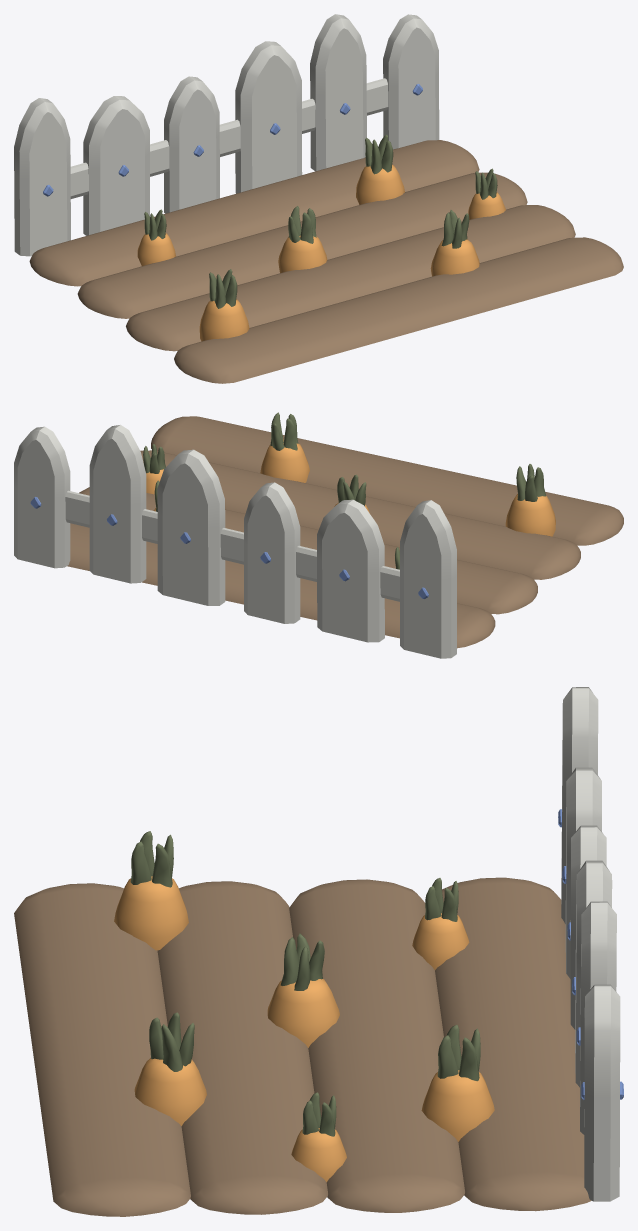
The model's file is farm.fbx.
The picture shows the model from 3 angles, top to bottom: view 1: azimuth 30°, elevation 25°; view 2: azimuth 150°, elevation 25°; view 3: azimuth 270°, elevation 25°; orthographic projection. The views are drawn at different scales.
Parts seen in each view (by area): view 1: pCylinder5; view 2: pCylinder5; view 3: pCylinder5.
Boxes of the visible parts, bbox=[...] form: pCylinder5: bbox=[14, 14, 623, 383]; pCylinder5: bbox=[14, 412, 623, 658]; pCylinder5: bbox=[14, 687, 623, 1216].
Bounding box in the file's own units: 7.92 × 2.57 × 6.14.
